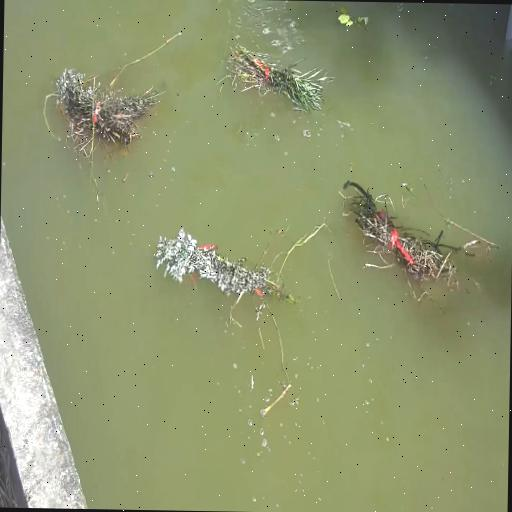twig: (154, 208, 286, 312), (359, 190, 473, 288), (52, 67, 164, 158), (215, 42, 332, 124), (332, 12, 382, 44)
